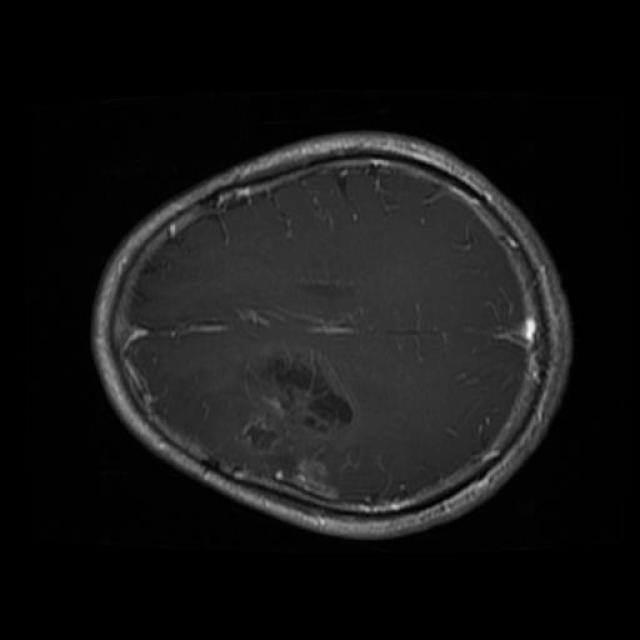Glioma: (239, 348, 353, 498)
